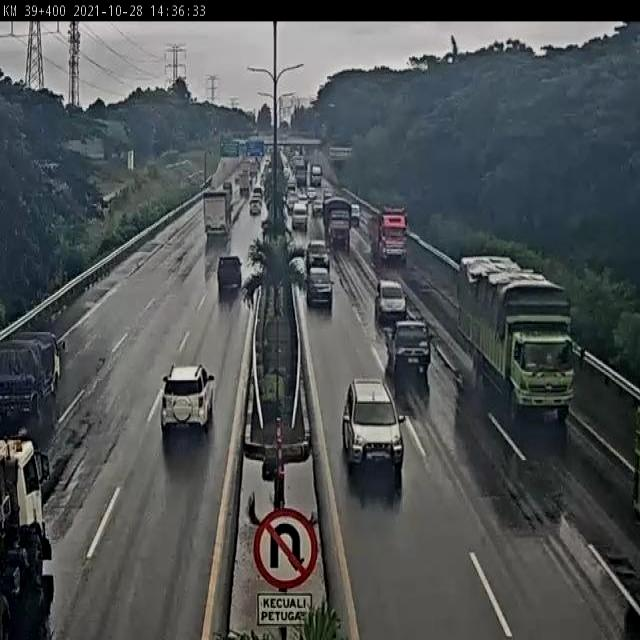Car: (342, 380, 406, 492), (159, 363, 218, 435), (387, 318, 434, 394), (374, 278, 407, 329), (304, 248, 332, 307), (217, 255, 243, 300), (292, 200, 308, 231), (312, 195, 324, 215), (350, 203, 360, 226), (249, 197, 261, 215), (253, 184, 263, 201), (287, 178, 296, 195)
Truck: (458, 255, 575, 414), (0, 434, 56, 635), (1, 331, 64, 441), (372, 207, 409, 261), (326, 195, 353, 248), (203, 191, 231, 236), (310, 164, 322, 187)
